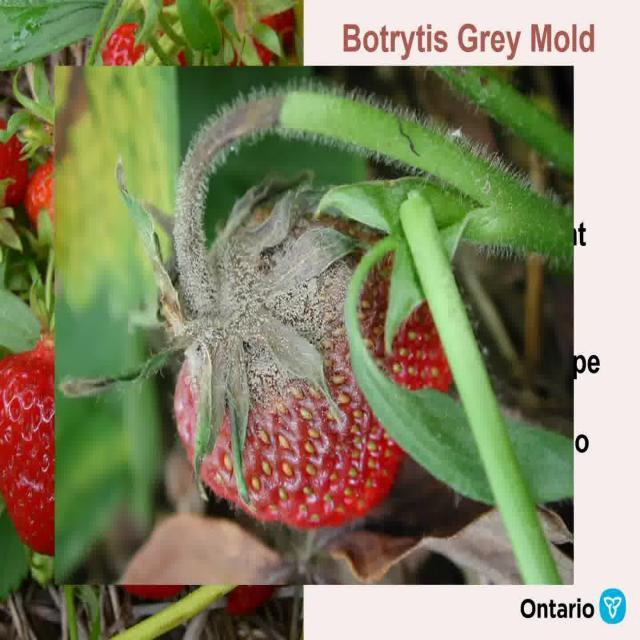Oído: (150, 110, 450, 536)
